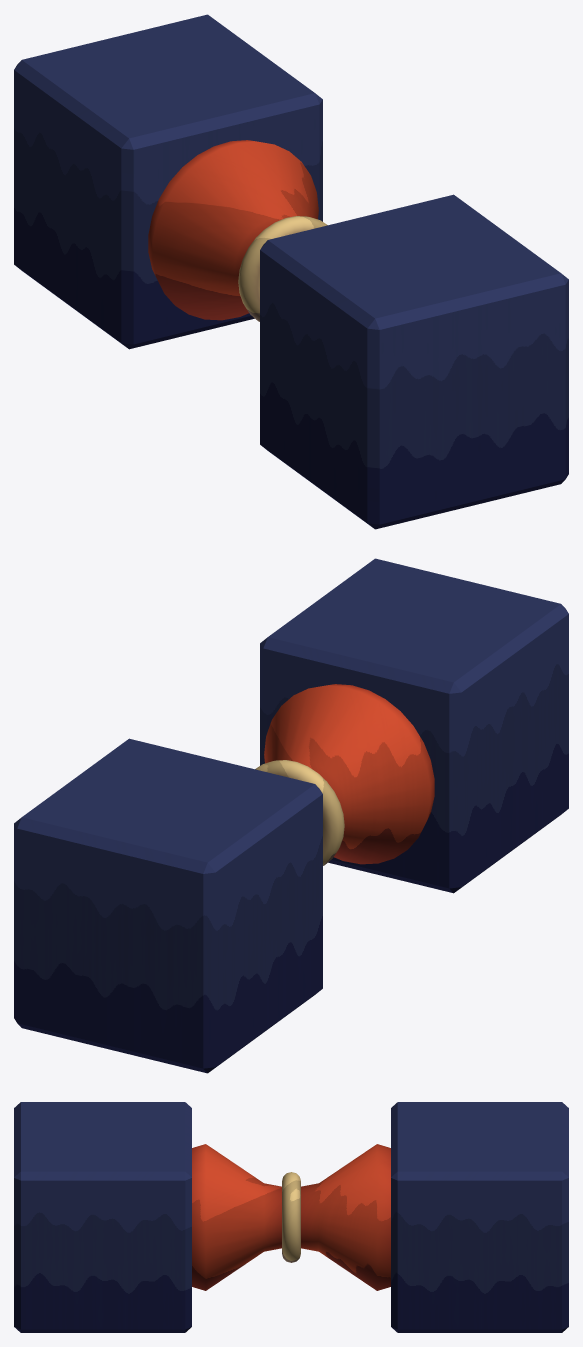
The model's file is R4C_STRUT_STANDARD.glb.
3 renders of one model, top to bottom at view 1: azimuth 30°, elevation 25°; view 2: azimuth 150°, elevation 25°; view 3: azimuth 270°, elevation 25°, orthographic. The views are drawn at different scales.
Parts seen in each view (by area): view 1: R4C_STRUT_STANDARD; view 2: R4C_STRUT_STANDARD; view 3: R4C_STRUT_STANDARD.
Part boxes in pixels (left/top/right/bottom): R4C_STRUT_STANDARD: left=14, top=14, right=568, bottom=529; R4C_STRUT_STANDARD: left=14, top=558, right=568, bottom=1073; R4C_STRUT_STANDARD: left=14, top=1102, right=568, bottom=1332.
Size of the model in its own units: 0.52 by 0.52 by 1.62.
Materials: 3 (3 with a texture image).
